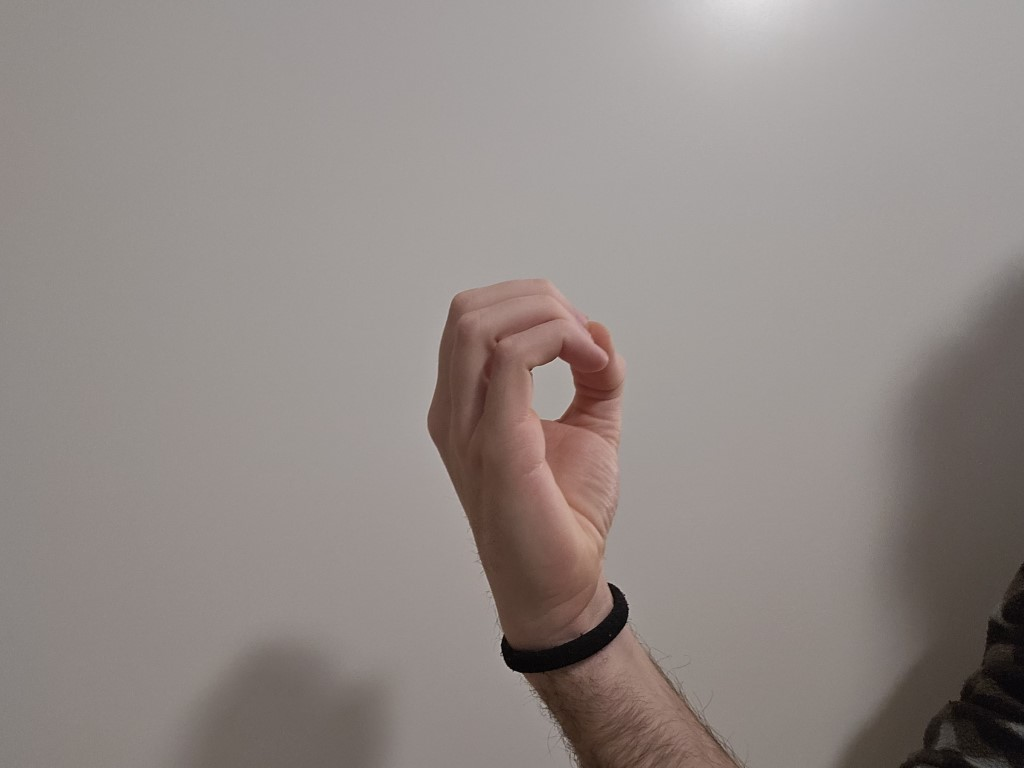o: (407, 258, 648, 597)
